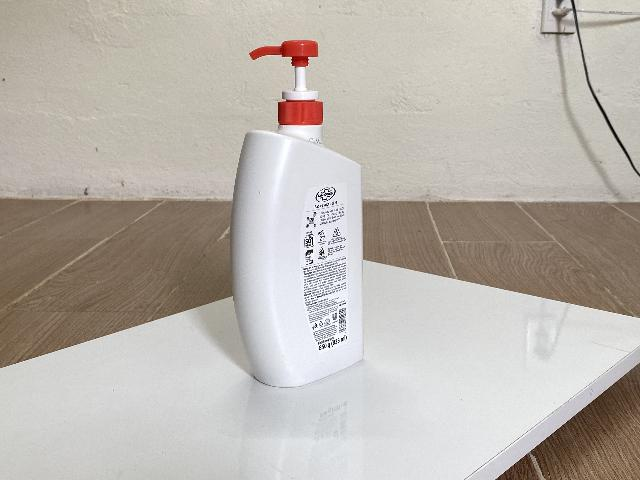life-buoy: (230, 40, 364, 388)
